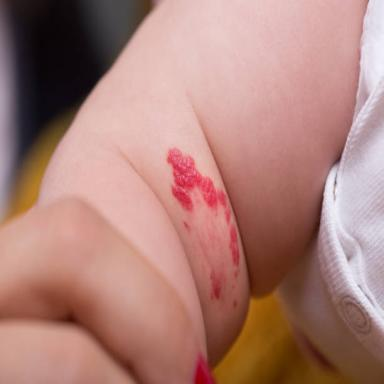Hemangiome: (167, 149, 230, 221), (229, 225, 239, 266)
